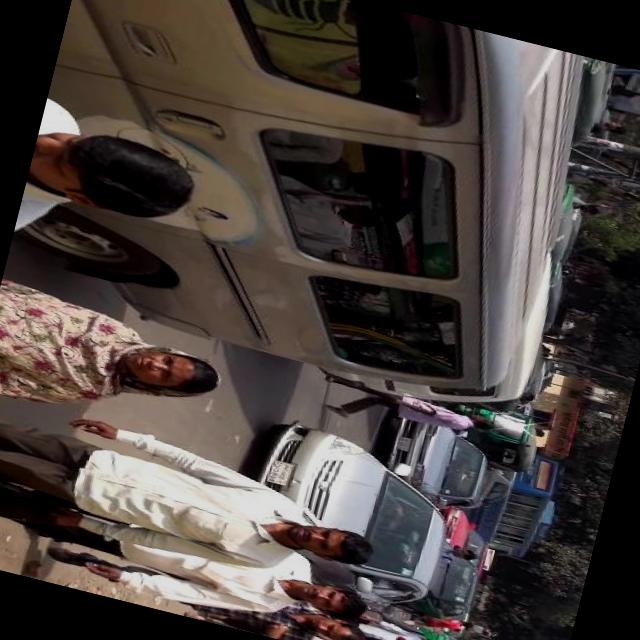bus: (464, 438, 574, 566)
car: (216, 413, 466, 621), (368, 411, 496, 516), (389, 536, 492, 630), (427, 504, 505, 575), (454, 461, 523, 518)
motorcycle: (434, 395, 546, 478), (562, 57, 622, 156), (538, 176, 586, 262), (530, 255, 578, 336), (398, 622, 487, 640)
truck: (0, 0, 587, 411), (306, 205, 564, 430)
